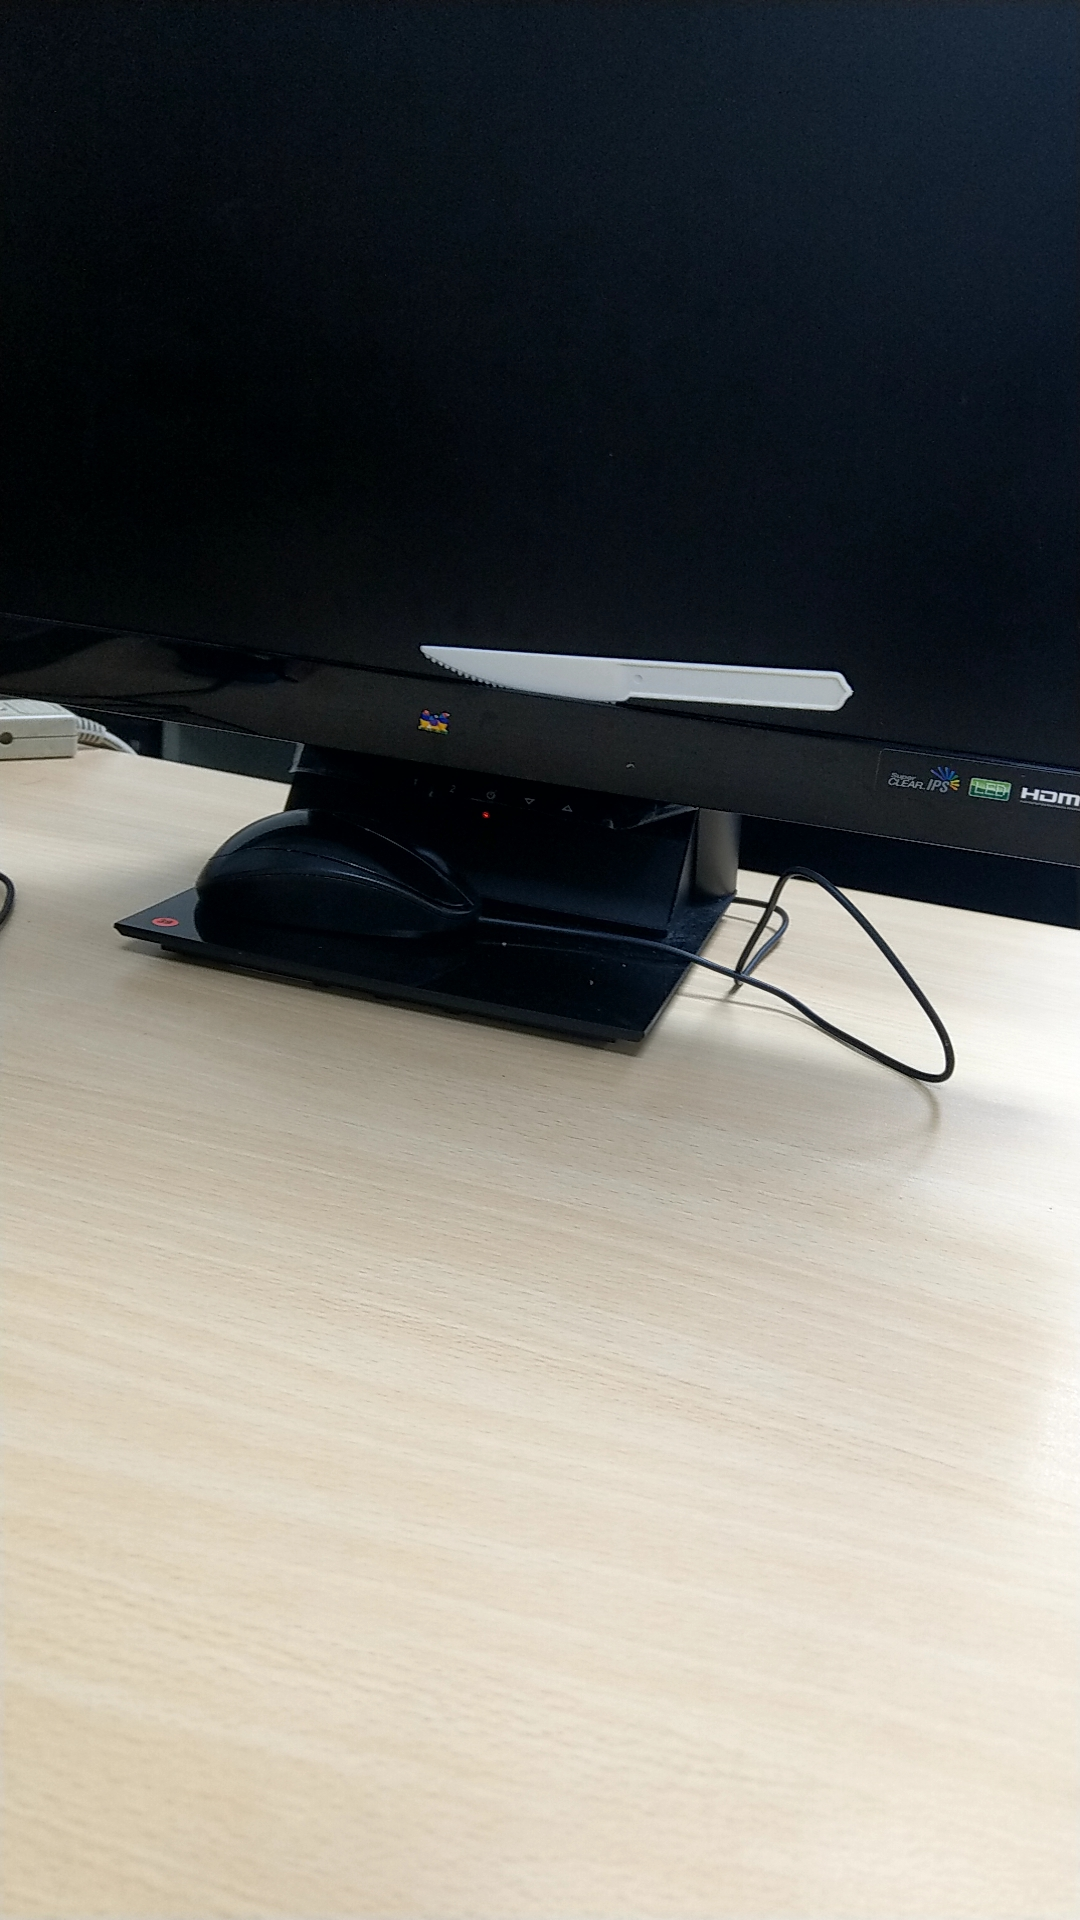knife: (411, 615, 880, 725)
